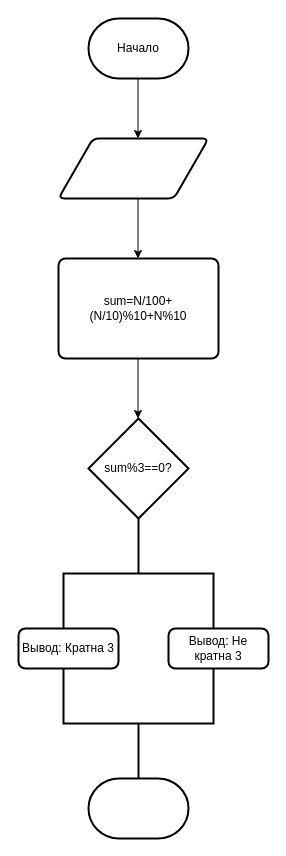
Image size: 286x856. Some labels were removed from this diagram. The shapes that lost their labels are listed below. From the top down, each one's centre as x and y in pixels, then its label:
At [133,168]: "Ввод N".
At [138,808]: "Конец".
